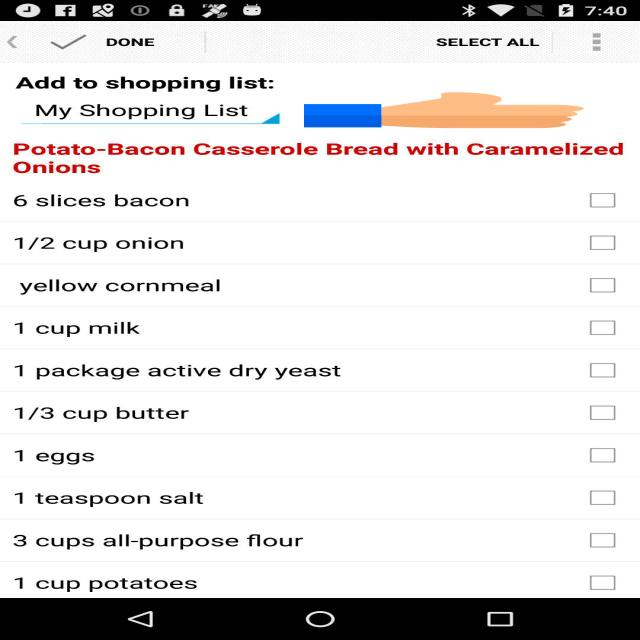privacy zuckering: (304, 91, 584, 129)
